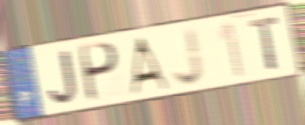1: (219, 19, 246, 81)
A: (128, 34, 171, 96)
J: (171, 26, 206, 87), (47, 48, 79, 106)
P: (79, 41, 121, 105)
T: (248, 14, 281, 72)
